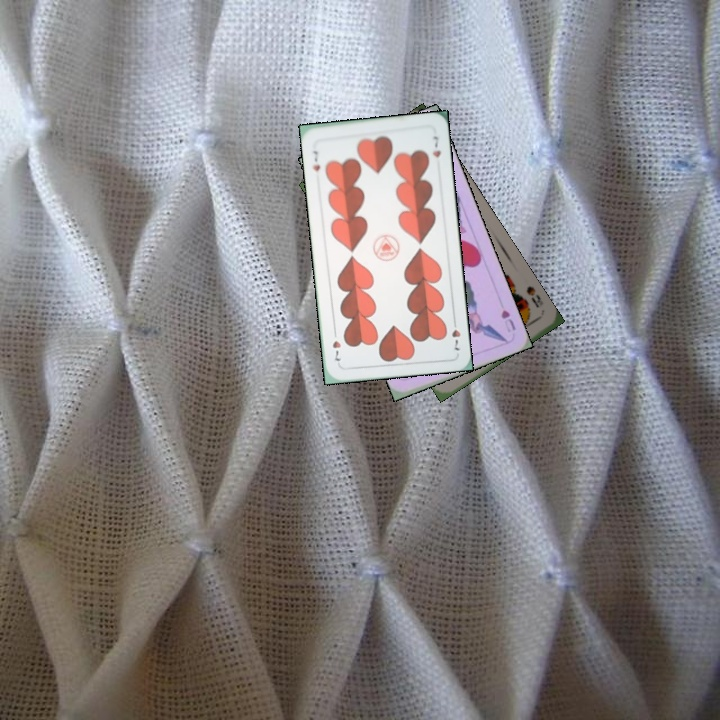H7: (448, 314, 463, 353), (309, 147, 323, 173)
HU: (497, 306, 518, 335)
S8: (522, 282, 546, 310)
